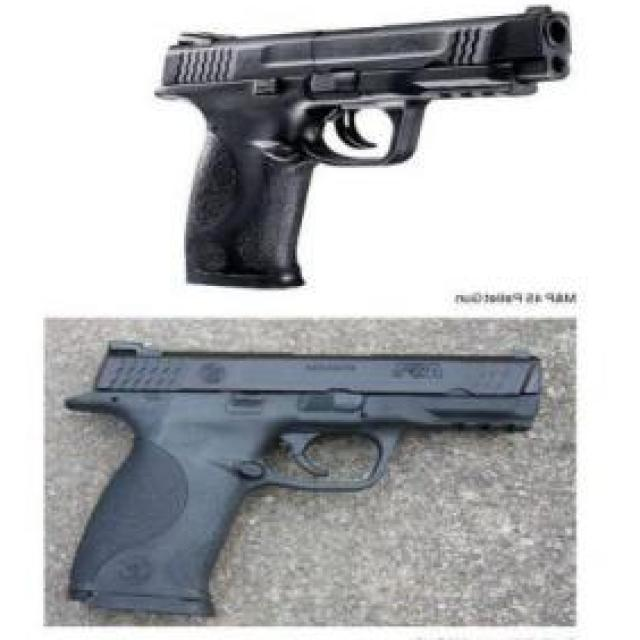pistol: (62, 343, 542, 617), (157, 0, 586, 290)
